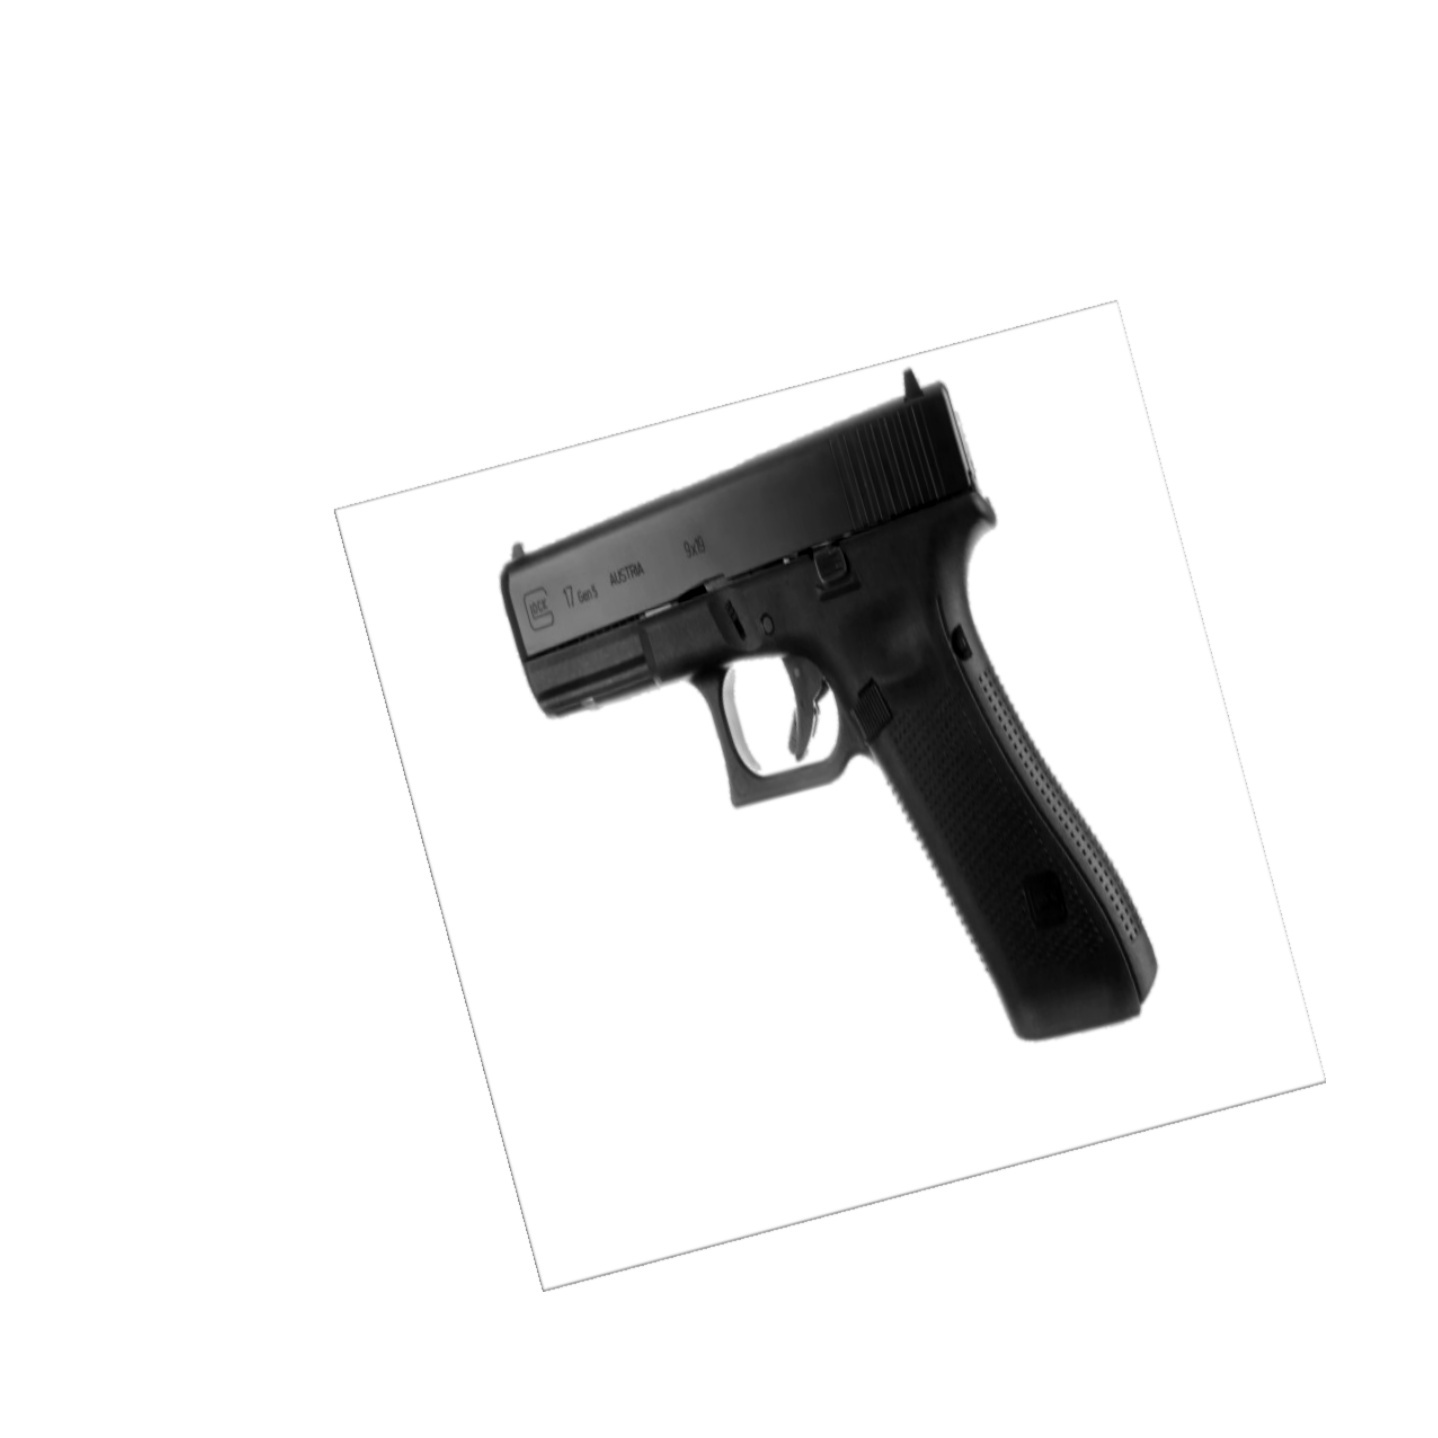gun: (491, 363, 1185, 1042)
